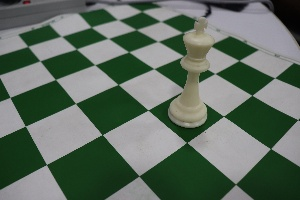white_king: (166, 5, 220, 138)
